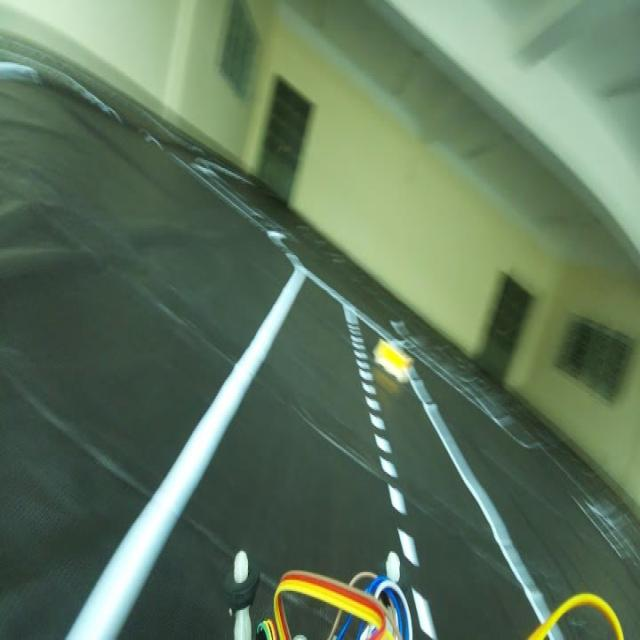roadblock: (372, 331, 418, 390)
